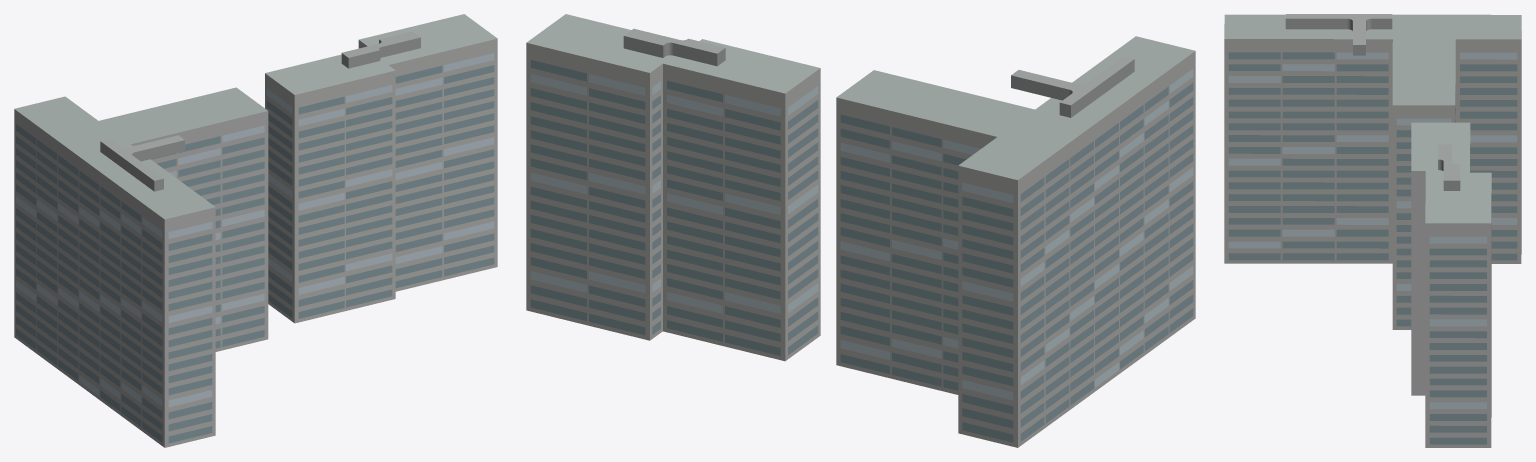
The model's file is apt-a15602002.glb.
3 renders of one model, left to right at view 1: azimuth 30°, elevation 25°; view 2: azimuth 150°, elevation 25°; view 3: azimuth 270°, elevation 25°, orthographic. The views are drawn at different scales.
Visible parts, largest first — view 1: apt-a15602002; view 2: apt-a15602002; view 3: apt-a15602002.
Part boxes in pixels (x1,y1,x2,y2): apt-a15602002: (14, 14, 497, 447); apt-a15602002: (526, 14, 1195, 447); apt-a15602002: (1224, 14, 1521, 447).
Size of the model in its own units: 97.22 by 51 by 58.5.
